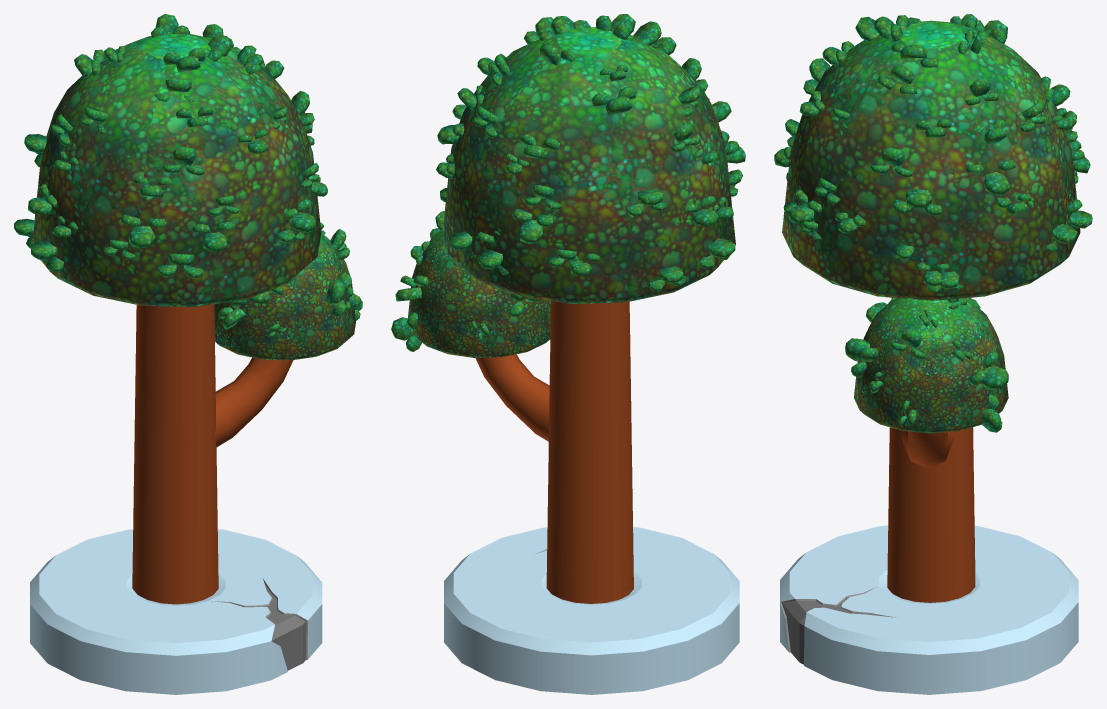
Rendered from BushyTree1.fbx.
3 views of the same model, side by side, from view 1: azimuth 30°, elevation 25°; view 2: azimuth 150°, elevation 25°; view 3: azimuth 270°, elevation 25° (orthographic). The views are drawn at different scales.
Parts seen in each view (by area): view 1: BushyTree1_LOD0; view 2: BushyTree1_LOD0; view 3: BushyTree1_LOD0.
Part boxes in pixels (x1,y1,x2,y2): BushyTree1_LOD0: (14, 14, 362, 694); BushyTree1_LOD0: (391, 14, 745, 694); BushyTree1_LOD0: (774, 14, 1092, 694).
Size of what is drawn, in the model's own units: 1611 by 2868 by 1361.
